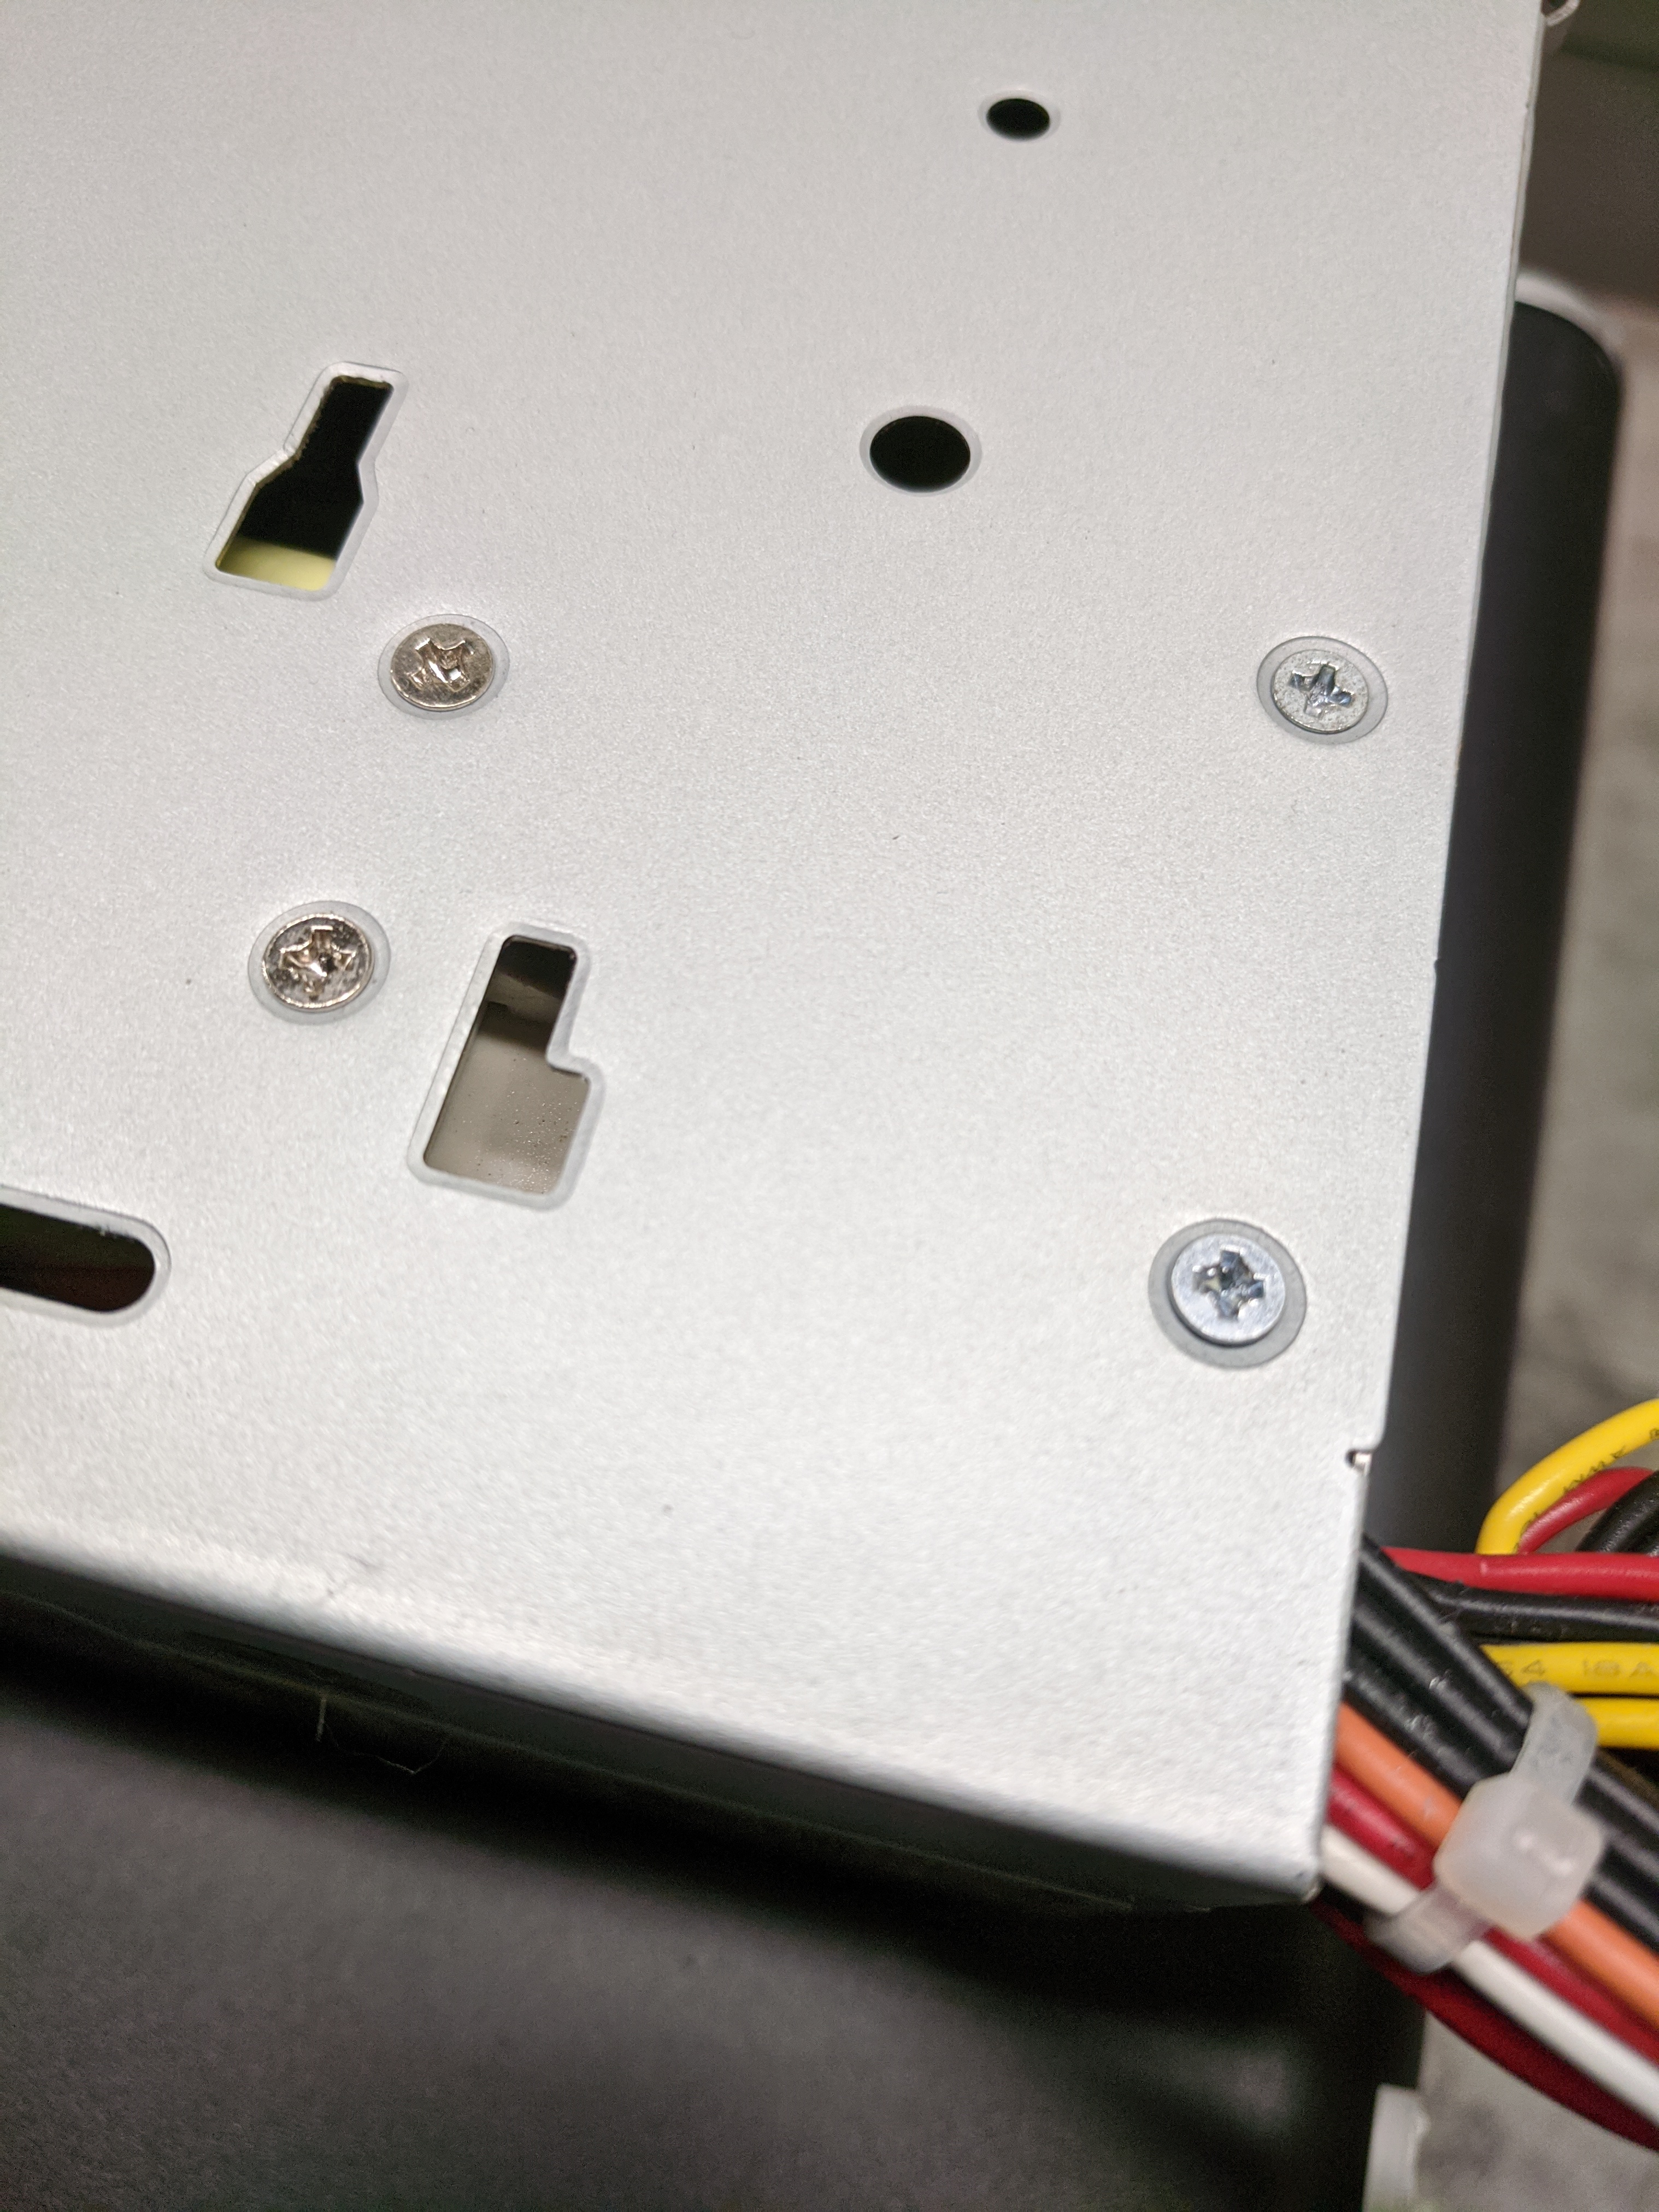cross_recessed_screw: (1148, 1219, 1309, 1341), (376, 603, 509, 709), (1251, 634, 1387, 728), (253, 906, 378, 1005)
